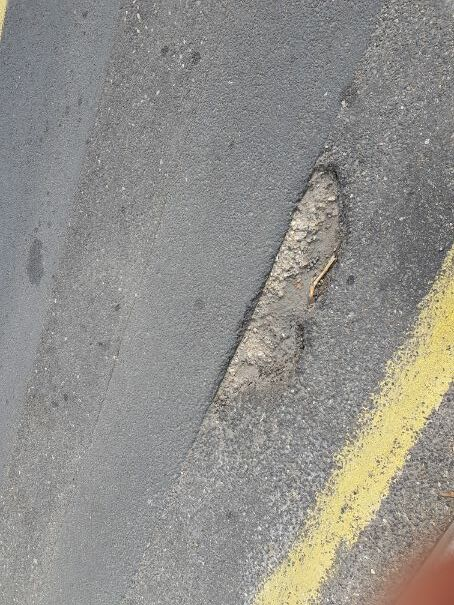pothole: (200, 155, 352, 420)
